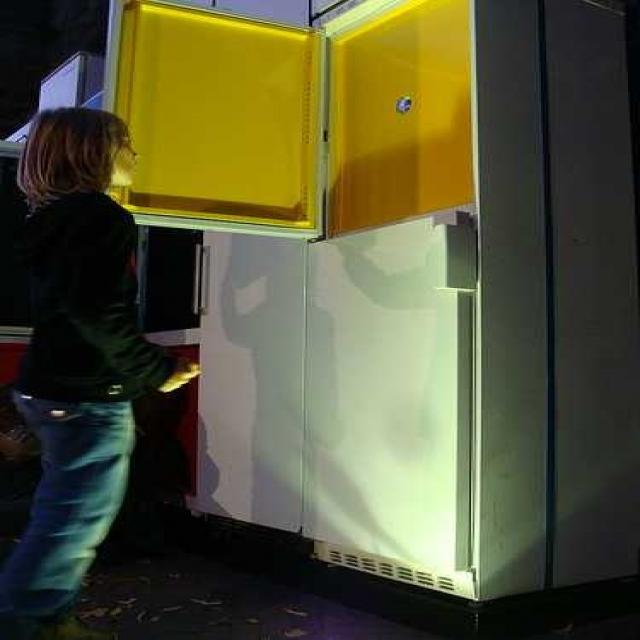refrigerator: (303, 0, 476, 600)
